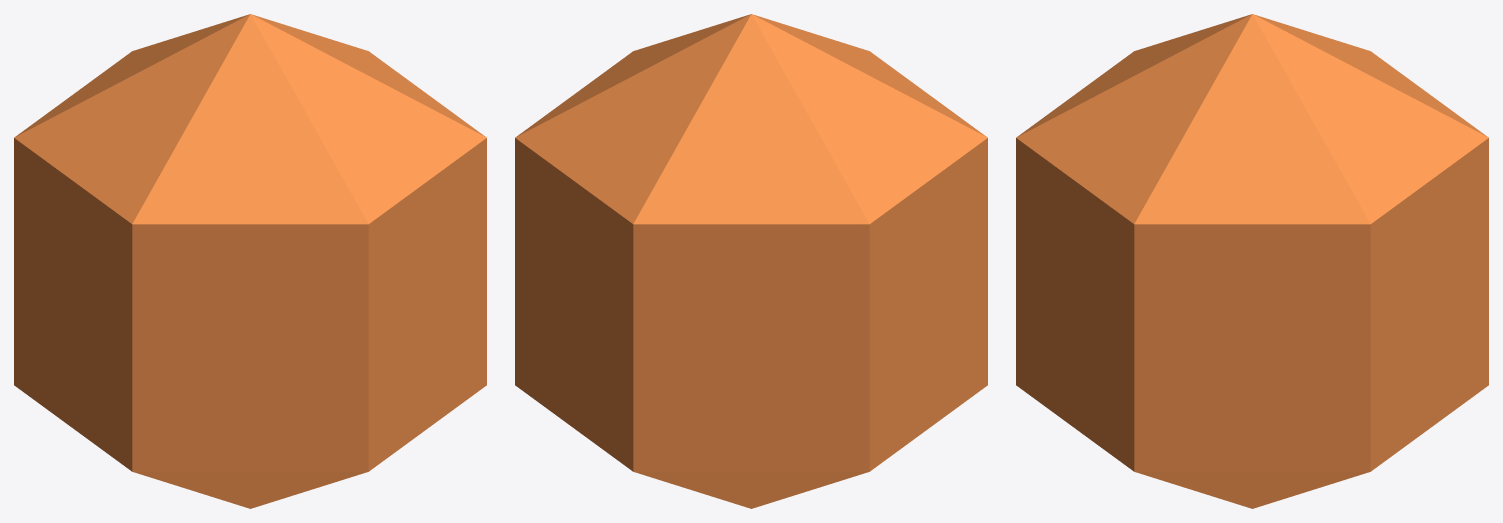
Rendered from LK_rope_float.glb.
3 views of the same model, side by side, from view 1: azimuth 30°, elevation 25°; view 2: azimuth 150°, elevation 25°; view 3: azimuth 270°, elevation 25° (orthographic).
Parts seen in each view (by area): view 1: LK_rope_float; view 2: LK_rope_float; view 3: LK_rope_float.
Boxes of the visible parts, x1=… form: LK_rope_float: x1=14, y1=14, x2=486, y2=508; LK_rope_float: x1=515, y1=14, x2=987, y2=508; LK_rope_float: x1=1016, y1=14, x2=1488, y2=508.
Bounding box in the file's own units: 0.1125 × 0.15 × 0.1299.
